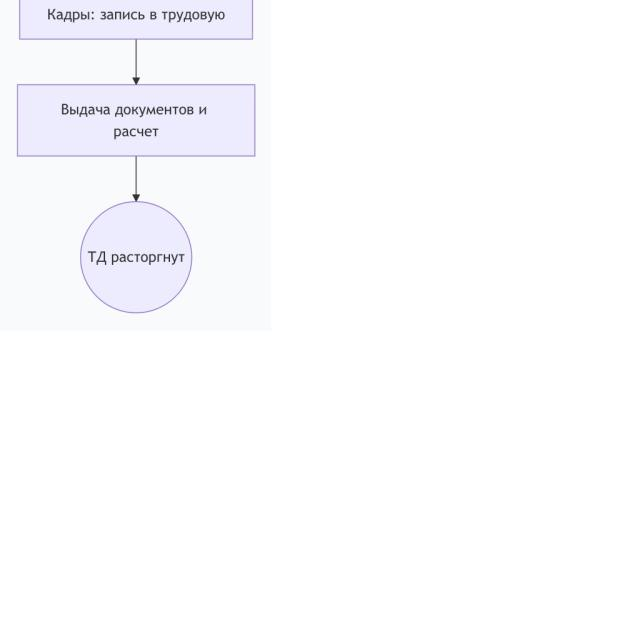arrow: (129, 155, 142, 203), (130, 40, 143, 84)
circle: (81, 202, 191, 313)
rectangle: (16, 85, 256, 155)
